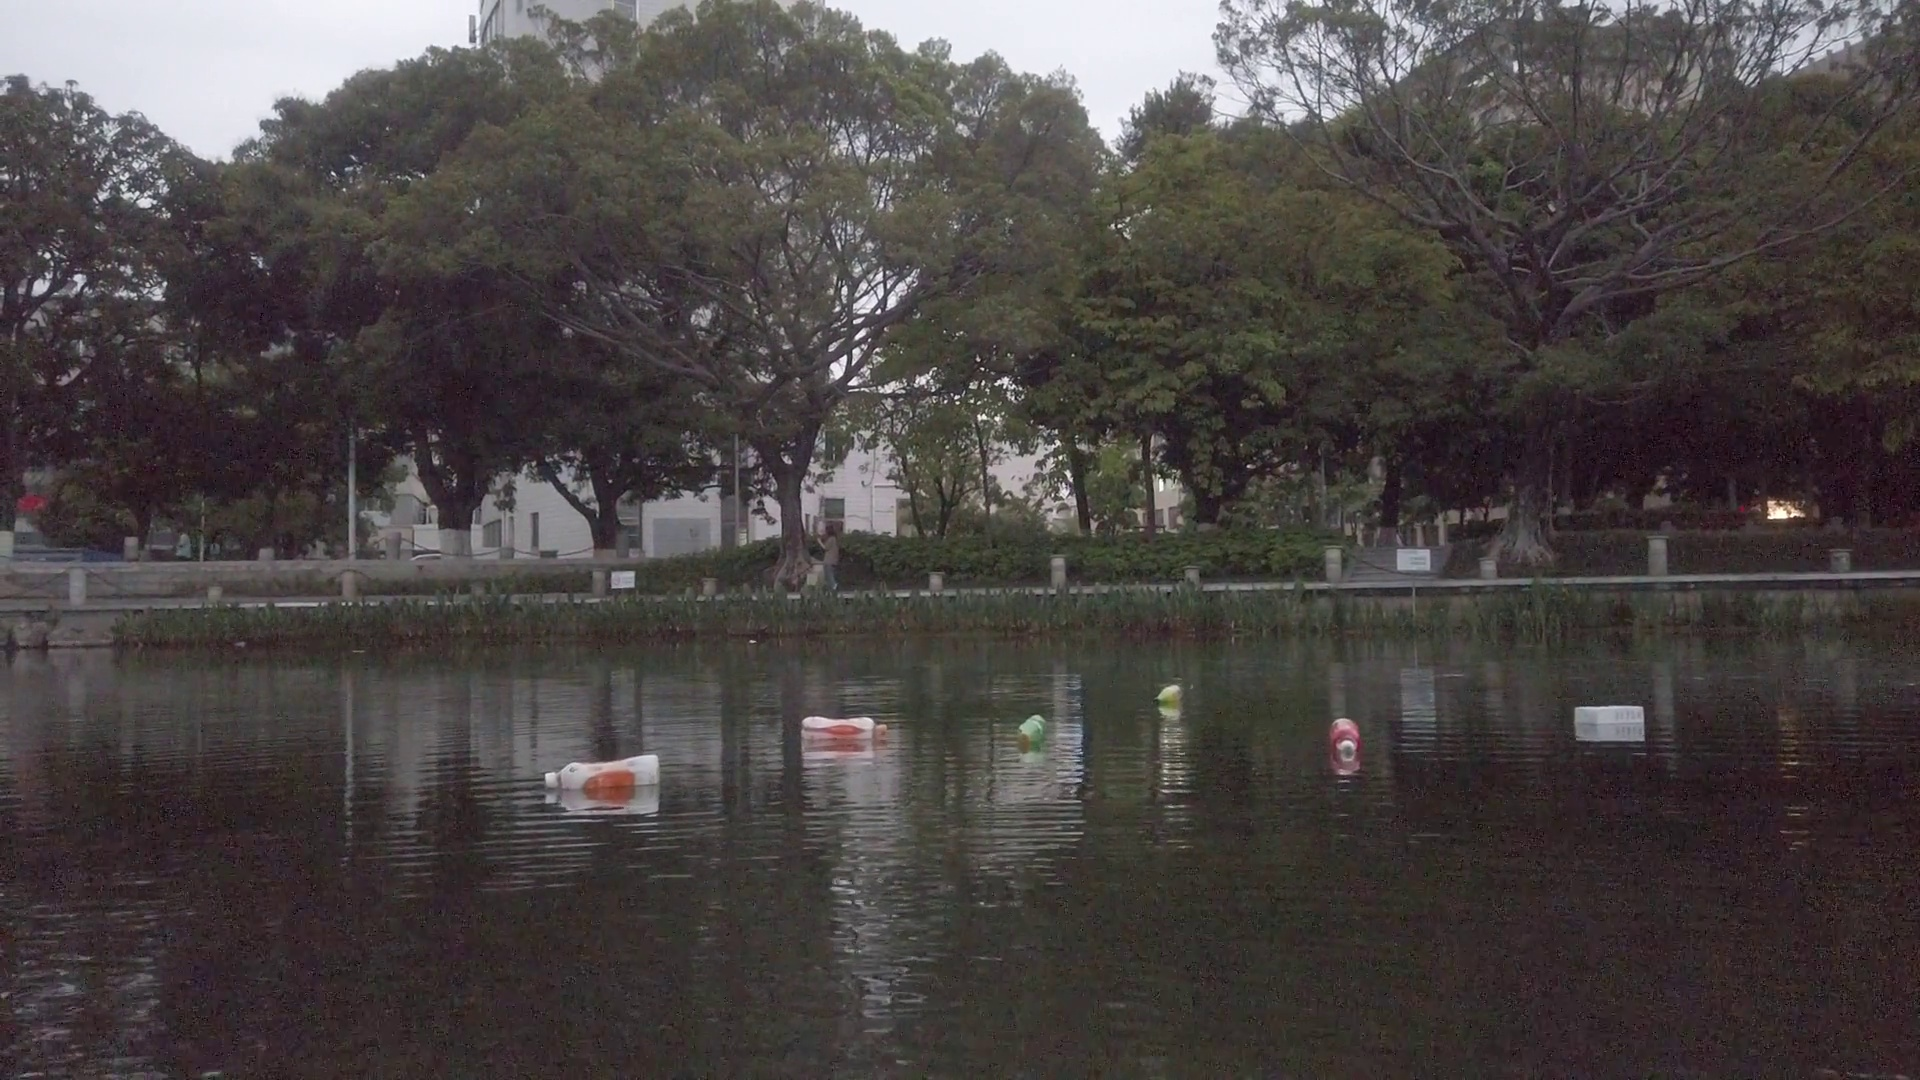bottle: (545, 756, 663, 790), (803, 715, 891, 742), (1332, 717, 1365, 761), (1019, 709, 1047, 750), (1155, 680, 1182, 707)
carton: (1575, 704, 1646, 727)
